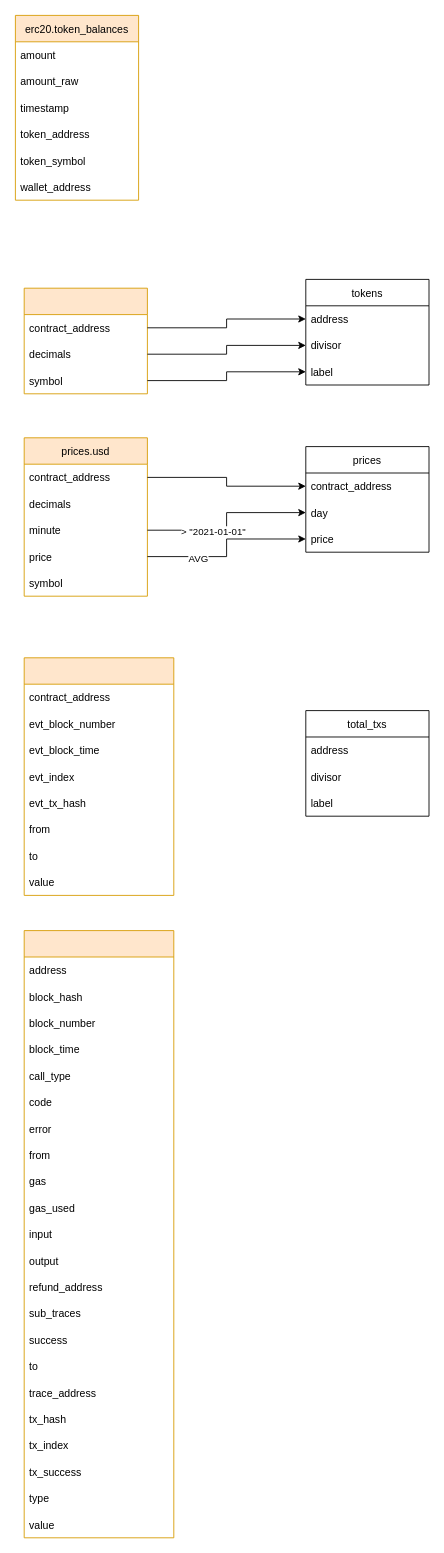
Image size: 444x1553. Some labels were removed from this diagram. Here are the shapes that lost their labels. From the top down, the box of each, then its label:
(23, 287, 147, 394): erc20.tokens
(23, 657, 174, 895): erc20.ERC20_evt_Transfer
(23, 930, 174, 1538): ethereum.traces
